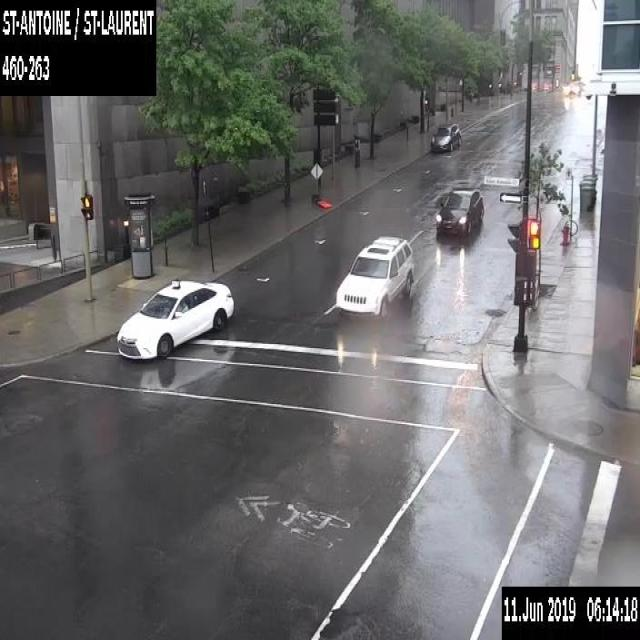construction: (316, 196, 332, 209)
vehicle: (114, 276, 236, 359), (334, 234, 414, 322), (434, 185, 484, 236), (430, 122, 461, 152), (567, 79, 586, 96)
